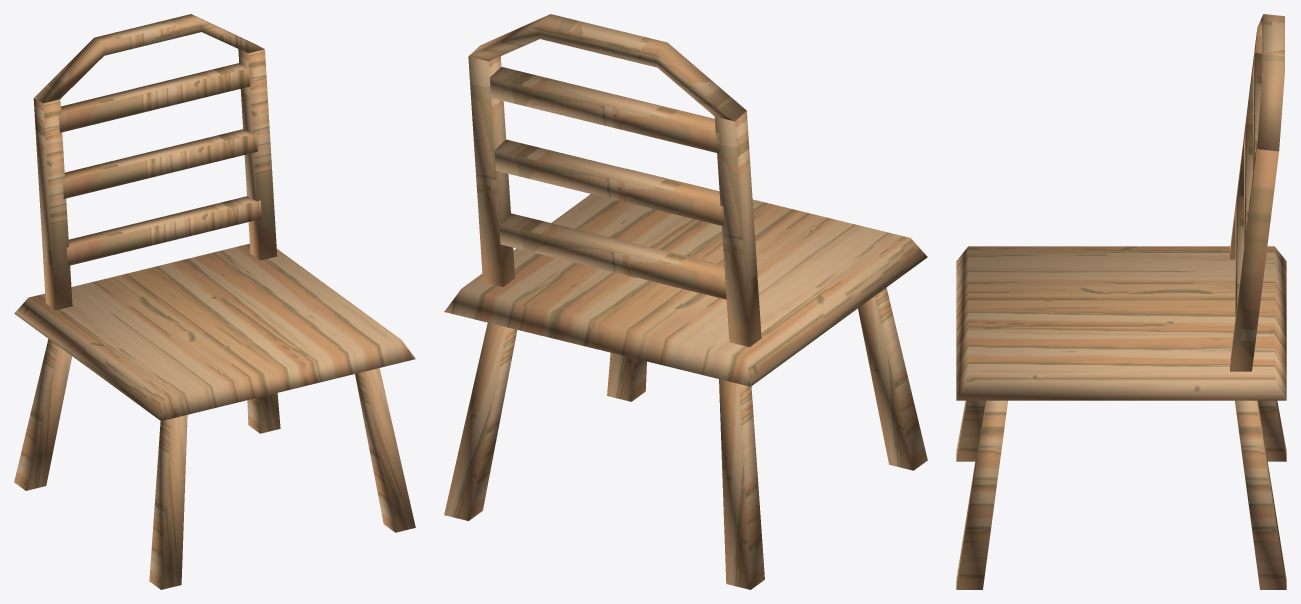
The model's file is silla.fbx.
3 renders of one model, left to right at view 1: azimuth 30°, elevation 25°; view 2: azimuth 150°, elevation 25°; view 3: azimuth 270°, elevation 25°, orthographic. The views are drawn at different scales.
Visible parts, largest first — view 1: Silla; view 2: Silla; view 3: Silla.
Boxes of the visible parts, x1,y1,x2,y2 form: Silla: (14,14,415,589); Silla: (444,14,927,589); Silla: (956,14,1286,589).
Size of the model in its own units: 32.37 by 51.93 by 32.37.
1 material, 1 textured.
